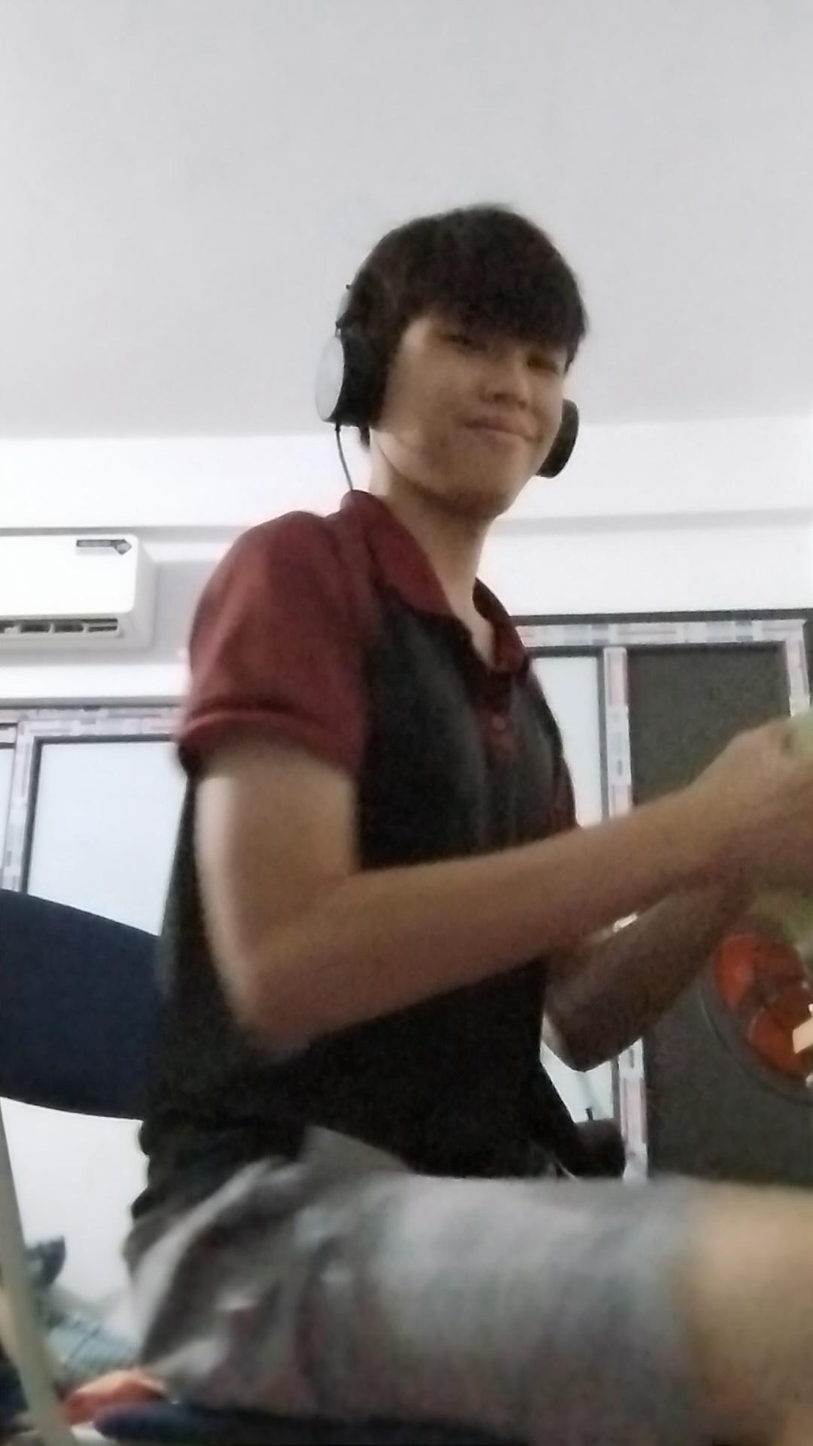GoodPosture: (127, 205, 812, 1445), (128, 206, 812, 1445)
